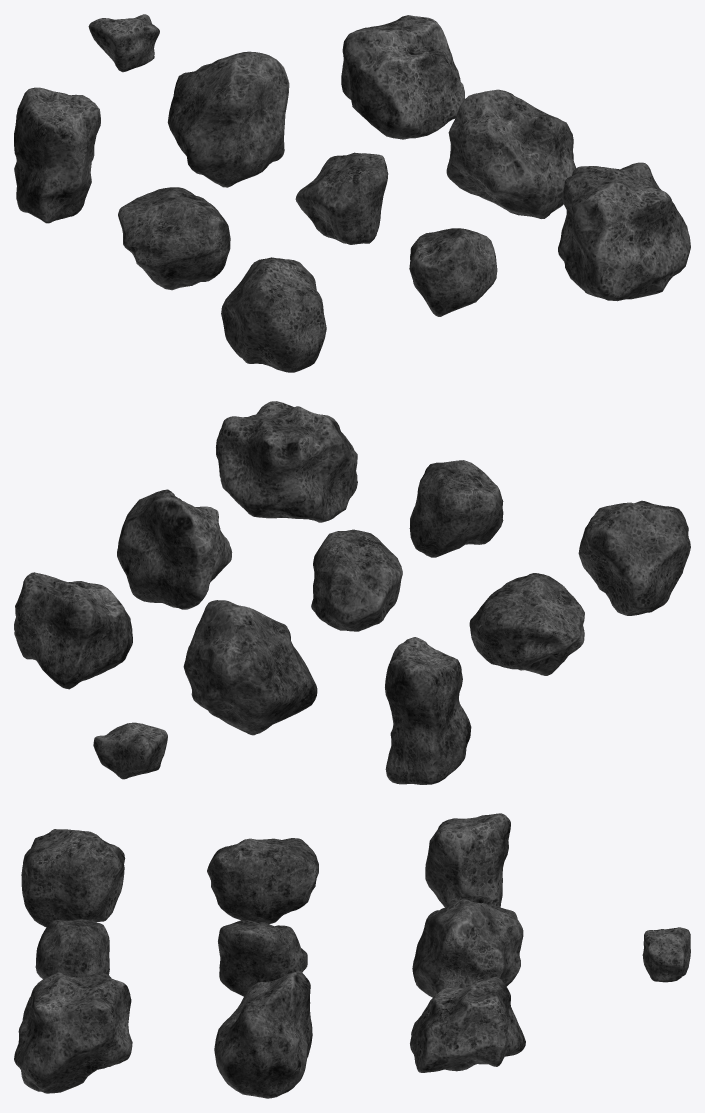
Rendered from rocks.glb.
3 renders of one model, top to bottom at view 1: azimuth 30°, elevation 25°; view 2: azimuth 150°, elevation 25°; view 3: azimuth 270°, elevation 25°, orthographic. The views are drawn at different scales.
Parts seen in each view (by area): view 1: Asteroid_no_1_Material #3_0, Asteroid_no_8_Material #3_0, Asteroid_no_4_Material #3_0, Asteroid_no_7_Material #3_0, Asteroid_no_9_Material #3_0, Asteroid_no_3_Material #3_0, Asteroid_no_6_Material #3_0, Asteroid_no_5_Material #3_0, Asteroid_no_2_Material #3_0, Asteroid_no_10_Material #3_0; view 2: Asteroid_no_1_Material #3_0, Asteroid_no_8_Material #3_0, Asteroid_no_7_Material #3_0, Asteroid_no_9_Material #3_0, Asteroid_no_4_Material #3_0, Asteroid_no_3_Material #3_0, Asteroid_no_6_Material #3_0, Asteroid_no_5_Material #3_0, Asteroid_no_2_Material #3_0, Asteroid_no_10_Material #3_0; view 3: Asteroid_no_1_Material #3_0, Asteroid_no_4_Material #3_0, Asteroid_no_3_Material #3_0, Asteroid_no_8_Material #3_0, Asteroid_no_7_Material #3_0, Asteroid_no_6_Material #3_0, Asteroid_no_9_Material #3_0, Asteroid_no_5_Material #3_0, Asteroid_no_2_Material #3_0, Asteroid_no_10_Material #3_0.
Boxes of the visible parts, x1,y1,x2,y2 form: Asteroid_no_1_Material #3_0: [558, 162, 690, 301]; Asteroid_no_8_Material #3_0: [167, 51, 289, 187]; Asteroid_no_4_Material #3_0: [446, 89, 576, 218]; Asteroid_no_7_Material #3_0: [341, 15, 464, 139]; Asteroid_no_9_Material #3_0: [14, 87, 100, 223]; Asteroid_no_3_Material #3_0: [221, 257, 326, 372]; Asteroid_no_6_Material #3_0: [118, 187, 230, 290]; Asteroid_no_5_Material #3_0: [295, 152, 388, 244]; Asteroid_no_2_Material #3_0: [409, 228, 497, 316]; Asteroid_no_10_Material #3_0: [88, 14, 159, 72]; Asteroid_no_1_Material #3_0: [216, 401, 357, 522]; Asteroid_no_8_Material #3_0: [183, 600, 317, 735]; Asteroid_no_7_Material #3_0: [14, 572, 132, 689]; Asteroid_no_9_Material #3_0: [385, 637, 471, 784]; Asteroid_no_4_Material #3_0: [117, 489, 232, 609]; Asteroid_no_3_Material #3_0: [578, 500, 690, 615]; Asteroid_no_6_Material #3_0: [469, 573, 584, 675]; Asteroid_no_5_Material #3_0: [311, 529, 402, 631]; Asteroid_no_2_Material #3_0: [409, 460, 503, 557]; Asteroid_no_10_Material #3_0: [93, 722, 167, 779]; Asteroid_no_1_Material #3_0: [14, 972, 132, 1093]; Asteroid_no_4_Material #3_0: [214, 971, 312, 1098]; Asteroid_no_3_Material #3_0: [21, 829, 125, 927]; Asteroid_no_8_Material #3_0: [412, 899, 523, 997]; Asteroid_no_7_Material #3_0: [410, 977, 525, 1072]; Asteroid_no_6_Material #3_0: [207, 838, 318, 923]; Asteroid_no_9_Material #3_0: [425, 813, 510, 907]; Asteroid_no_5_Material #3_0: [218, 920, 307, 996]; Asteroid_no_2_Material #3_0: [35, 919, 109, 978]; Asteroid_no_10_Material #3_0: [642, 927, 690, 982].
Size of the model in its own units: 34.3 by 9.09 by 48.14.
1 material, 1 textured.
